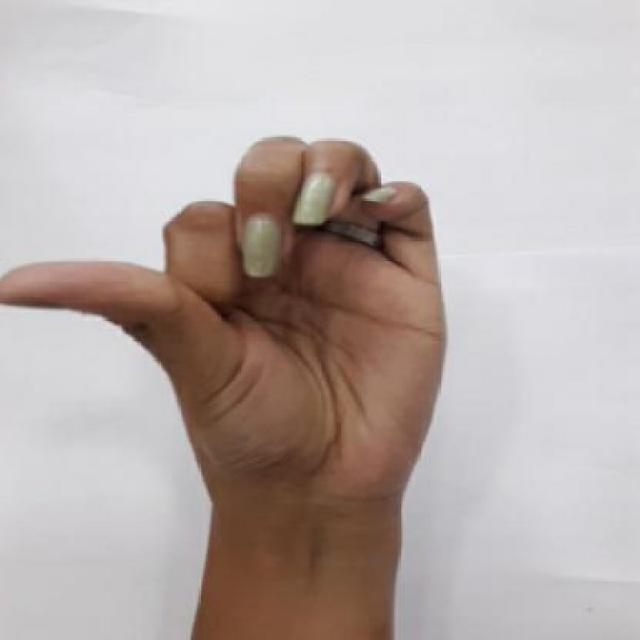without_gloves: (9, 119, 503, 596)
